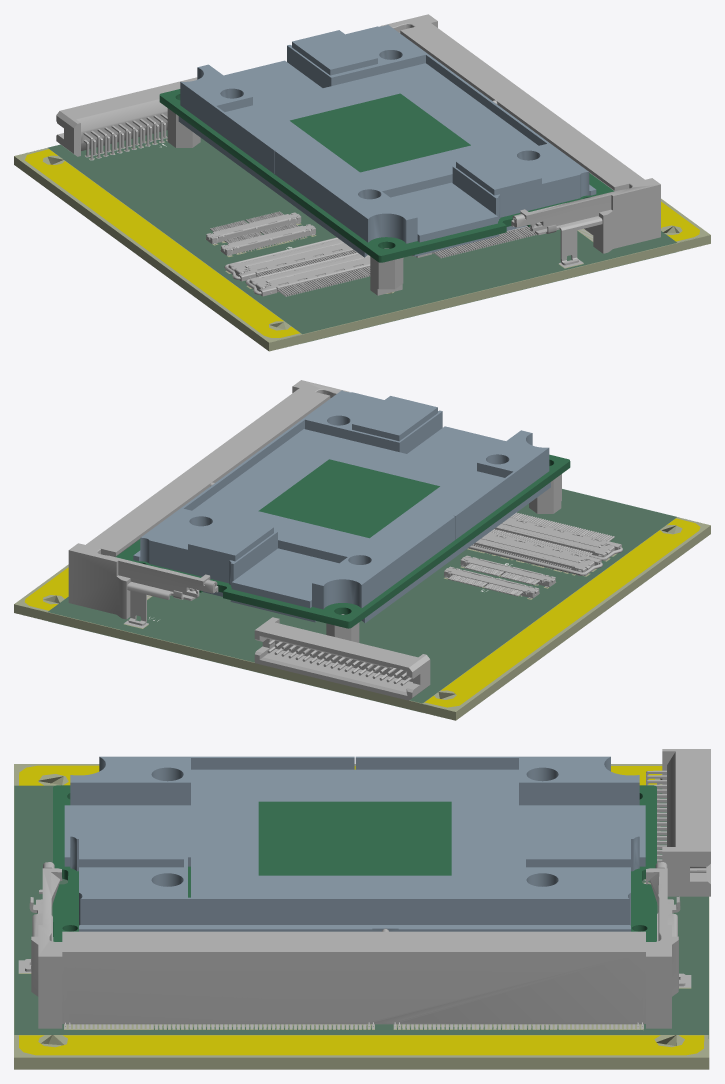
The model's file is payload-carrier.glb.
3 views of the same model, one above another, from view 1: azimuth 30°, elevation 25°; view 2: azimuth 150°, elevation 25°; view 3: azimuth 270°, elevation 25° (orthographic). The views are drawn at different scales.
Visible parts, largest first — view 1: payload-carrier; view 2: payload-carrier; view 3: payload-carrier.
Boxes of the visible parts, x1,y1,x2,y2 form: payload-carrier: [14, 14, 710, 351]; payload-carrier: [14, 380, 710, 720]; payload-carrier: [14, 749, 710, 1069].
Size of the model in its own units: 0.0801 by 0.0148 by 0.0803.
